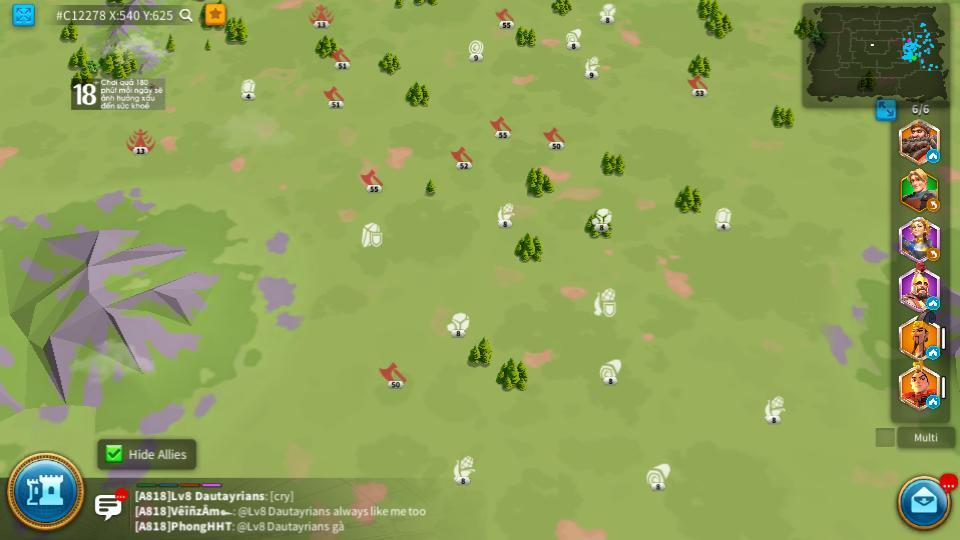gem-z-out: (713, 207, 734, 229), (239, 78, 256, 96)
march_idle: (926, 396, 941, 407), (926, 298, 940, 309), (926, 151, 940, 162), (927, 347, 940, 357)
march_returning: (926, 248, 941, 260), (927, 201, 940, 212)
